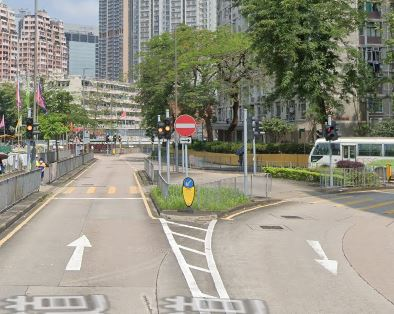No Enter: (174, 115, 198, 136)
